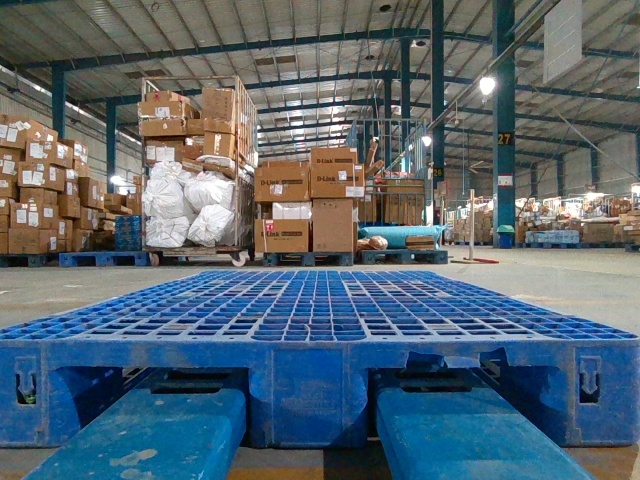block: (249, 342, 373, 445), (559, 339, 639, 446), (1, 336, 68, 447)
front: (0, 337, 639, 445)
hole pallet: (363, 366, 557, 444), (62, 366, 251, 444)
